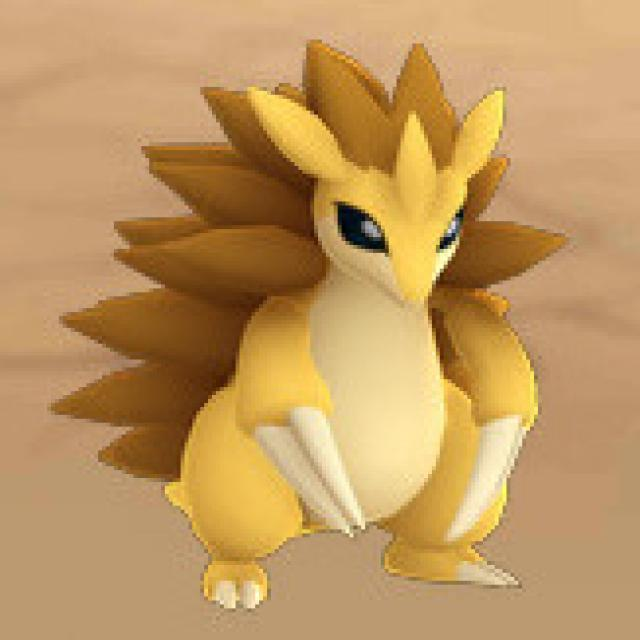Sandslash: (149, 79, 537, 579)
